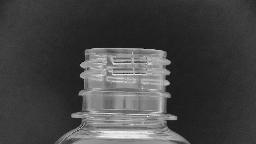No Cap: (64, 41, 184, 123)
